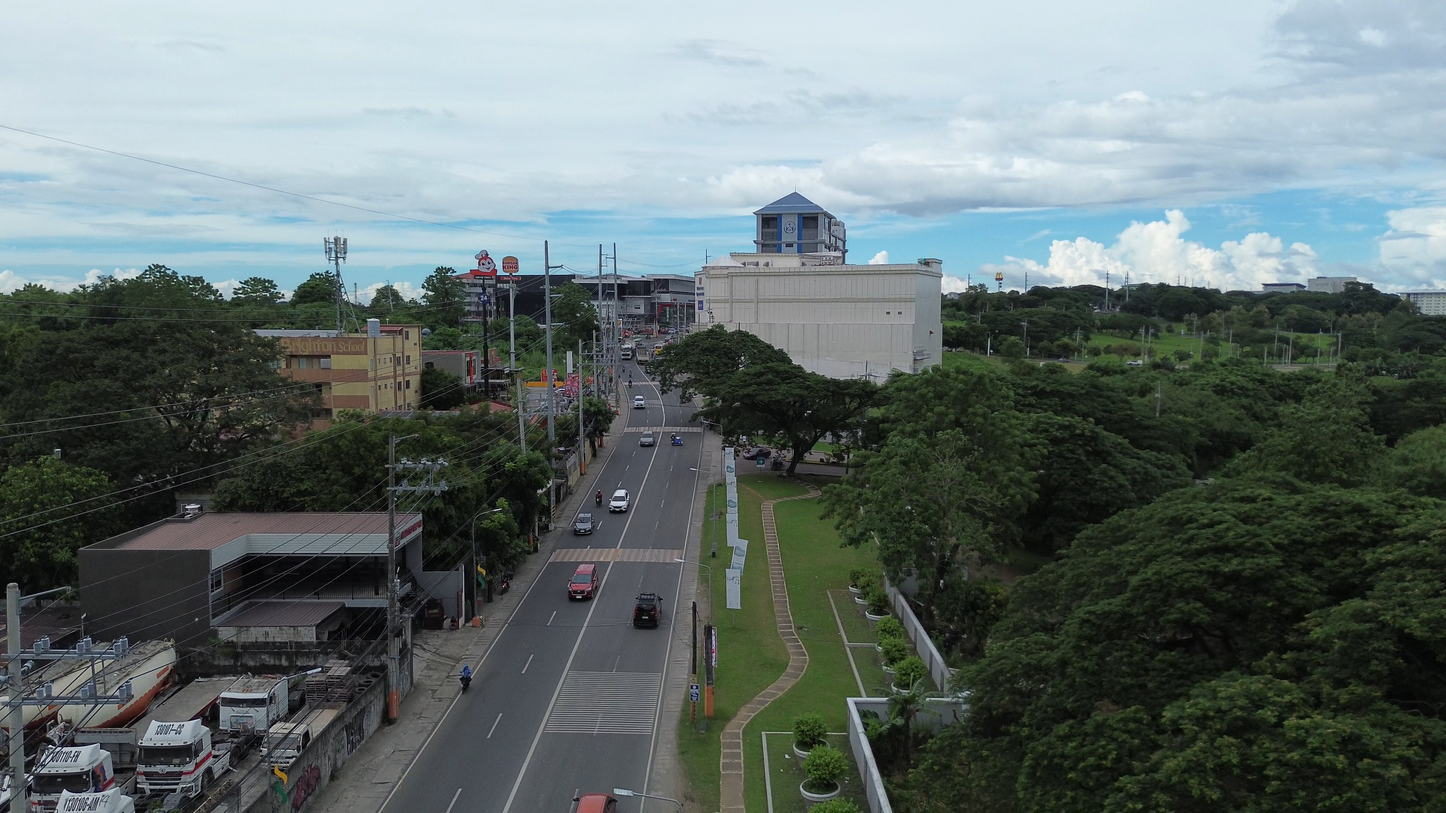car: (609, 489, 630, 512), (573, 513, 594, 534), (639, 432, 656, 446)
motorcycle: (595, 490, 602, 505)
truck: (30, 744, 133, 813)
vehicle: (136, 720, 230, 797), (30, 744, 117, 813), (218, 678, 287, 733), (262, 722, 311, 770), (55, 788, 134, 813), (568, 563, 598, 599), (632, 593, 660, 627), (574, 793, 617, 813), (743, 447, 771, 460), (621, 343, 633, 360), (632, 395, 646, 409), (671, 434, 683, 446), (1126, 359, 1143, 367)
